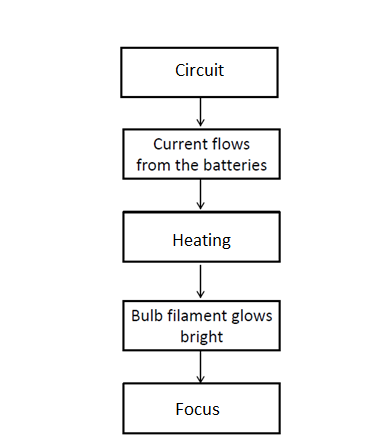arrow: (195, 98, 206, 128), (196, 266, 205, 302), (196, 350, 205, 384), (197, 178, 205, 211)
process: (119, 43, 281, 102), (120, 380, 283, 438), (120, 208, 284, 265), (120, 298, 283, 355), (120, 126, 283, 182)
text: (131, 307, 273, 346), (136, 136, 267, 172), (171, 232, 233, 251), (173, 62, 226, 80), (174, 401, 220, 420)
